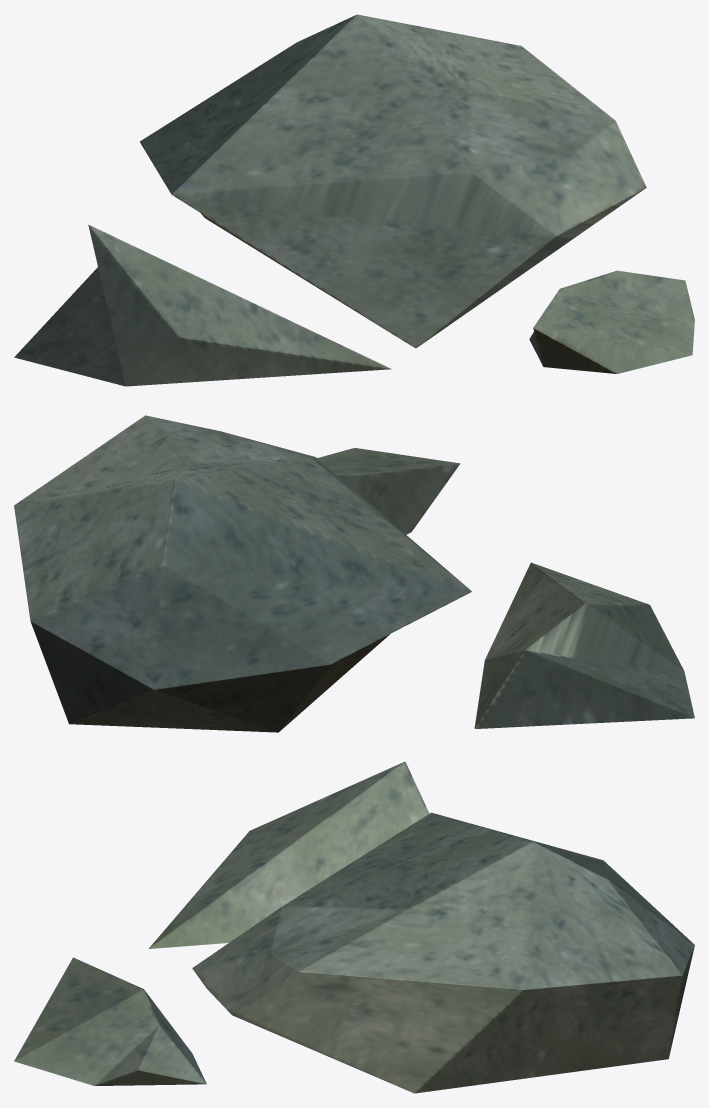
File: SM_Small_Rocks.fbx
3 renders of one model, top to bottom at view 1: azimuth 30°, elevation 25°; view 2: azimuth 150°, elevation 25°; view 3: azimuth 270°, elevation 25°, orthographic. The views are drawn at different scales.
Visible parts, largest first — view 1: pSphere3; view 2: pSphere3; view 3: pSphere3.
Part boxes in pixels (x1,y1,x2,y2): pSphere3: [14, 14, 694, 386]; pSphere3: [14, 415, 694, 732]; pSphere3: [14, 761, 694, 1093].
Bounding box in the file's own units: 10.97 × 3.68 × 10.88.
1 material, 1 textured.
